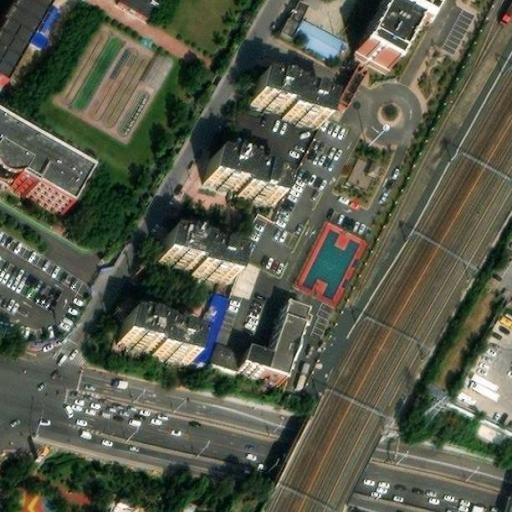building: (0, 121, 87, 207), (356, 5, 412, 66), (115, 313, 192, 357), (261, 304, 304, 378), (190, 286, 229, 360), (326, 60, 369, 116), (25, 0, 64, 48), (292, 14, 341, 50), (191, 240, 237, 278), (203, 149, 248, 187), (251, 72, 295, 110), (378, 0, 432, 27), (158, 231, 199, 266), (467, 413, 509, 447), (287, 87, 328, 121), (229, 254, 259, 298), (241, 165, 281, 198), (215, 292, 241, 339), (212, 336, 244, 364), (238, 348, 266, 372), (108, 496, 138, 511)
